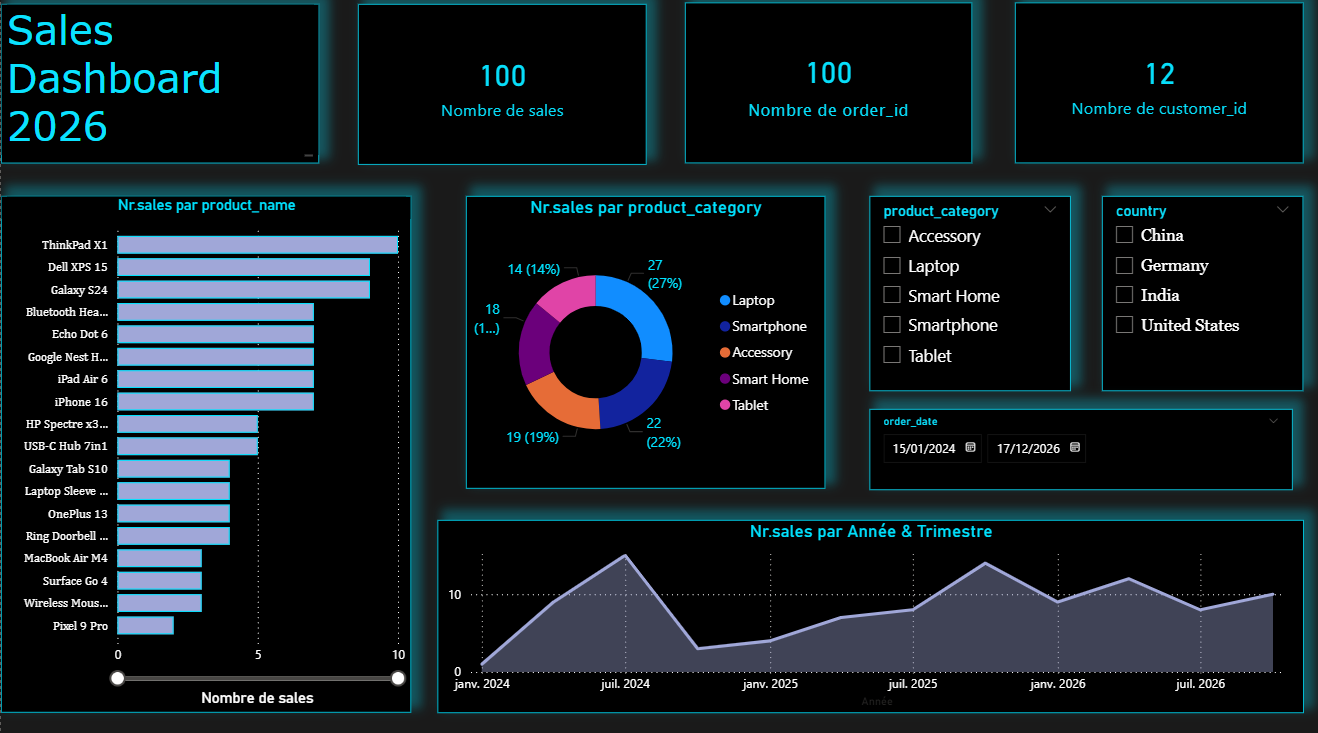

This screenshot's page, from the dashboard's own definition file:
{"tool":"powerbi","page":{"name":"Page 1","canvas":[1280,720],"ordinal":0},"visuals":[{"type":"card","fields":{"Values":["CountNonNull(orders.order_id)"]},"box":[663.2,10.6,278.6,156],"z":0},{"type":"card","fields":{"Values":["CountNonNull(orders.sales)"]},"box":[346.8,12.1,280.1,156],"z":1000},{"type":"card","fields":{"Values":["Count(orders.customer_id)"]},"box":[984.2,10.6,280.1,156],"z":2000},{"type":"clusteredBarChart","title":"Nr.sales par product_name","fields":{"Category":["orders.product_name"],"Y":["CountNonNull(orders.sales)"]},"box":[0,198.4,398.2,501.2],"z":3000},{"type":"donutChart","title":"Nr.sales par product_category","fields":{"Y":["CountNonNull(orders.sales)"],"Category":["orders.product_category"]},"box":[451.5,198.5,348.5,283.8],"z":4000},{"type":"lineChart","title":"Nr.sales par Année & Trimestre","fields":{"Category":["orders.order_date.Variation.Hiérarchie de dates.Année","orders.order_date.Variation.Hiérarchie de dates.Trimestre","orders.order_date.Variation.Hiérarchie de dates.Mois","orders.order_date.Variation.Hiérarchie de dates.Jour"],"Y":["CountNonNull(orders.sales)"]},"box":[423.4,512.5,840.6,187.5],"z":5000},{"type":"textbox","title":"Sales Dashboard 2026","box":[0,12.1,308.9,154.4],"z":5001},{"type":"slicer","fields":{"Values":["customers.country"]},"box":[1069,198.4,195.3,189.3],"z":5002},{"type":"slicer","fields":{"Values":["orders.order_date"]},"box":[843.4,404.3,410.3,78.7],"z":5003},{"type":"slicer","fields":{"Values":["orders.product_category"]},"box":[843.4,198.4,195.3,189.3],"z":5004}]}

Visuals, with their boxes in screenshot pixels (x1, y1, x2, y2), scaled from the page's 1280x720 canvas onto the 1318x733 screenshot:
card - CountNonNull(orders.order_id): select_region(683, 11, 970, 170)
card - CountNonNull(orders.sales): select_region(357, 12, 646, 171)
card - Count(orders.customer_id): select_region(1013, 11, 1302, 170)
"Nr.sales par product_name" clusteredBarChart: select_region(0, 202, 410, 712)
"Nr.sales par product_category" donutChart: select_region(465, 202, 824, 491)
"Nr.sales par Année & Trimestre" lineChart: select_region(436, 522, 1302, 713)
"Sales Dashboard 2026" textbox: select_region(0, 12, 318, 170)
slicer - customers.country: select_region(1101, 202, 1302, 395)
slicer - orders.order_date: select_region(868, 412, 1291, 492)
slicer - orders.product_category: select_region(868, 202, 1070, 395)
